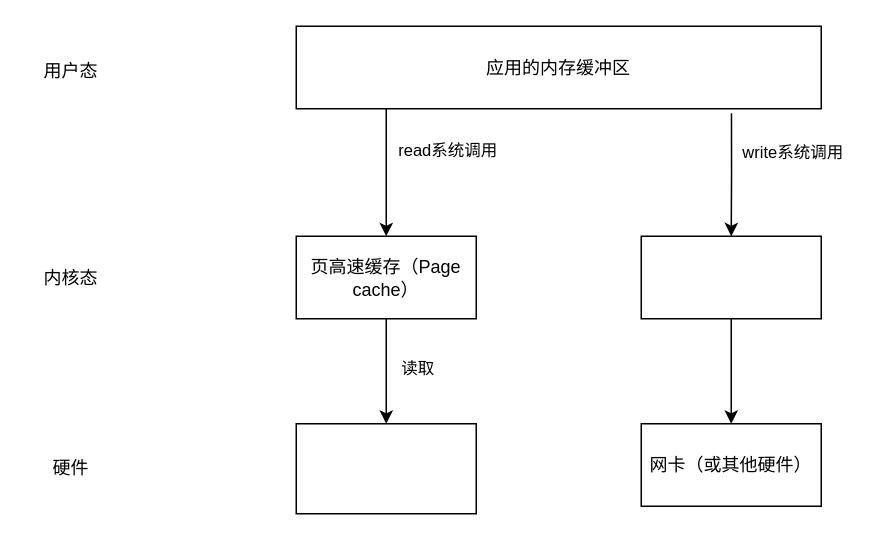
Image size: 869x540. Some labels were removed from this diagram. The shapes that lost their labels are listed below. From the top down, each one's box as (x1, y1, x2, y2) in pixels, then its label:
(640, 235, 821, 319): Socket Cache
(295, 422, 476, 514): 磁盘空间
